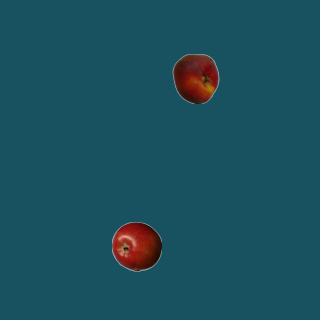Apple Braeburn: (111, 221, 161, 271)
Nectarine Flat: (170, 53, 220, 103)
